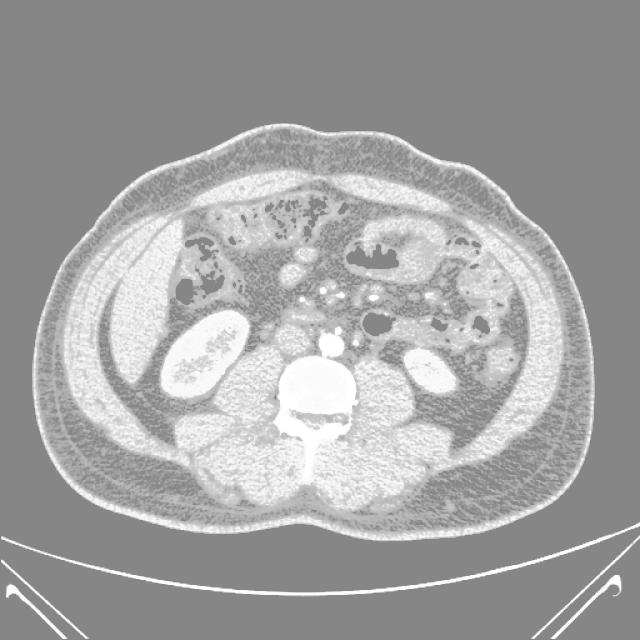NORMAL: (21, 109, 602, 554)
